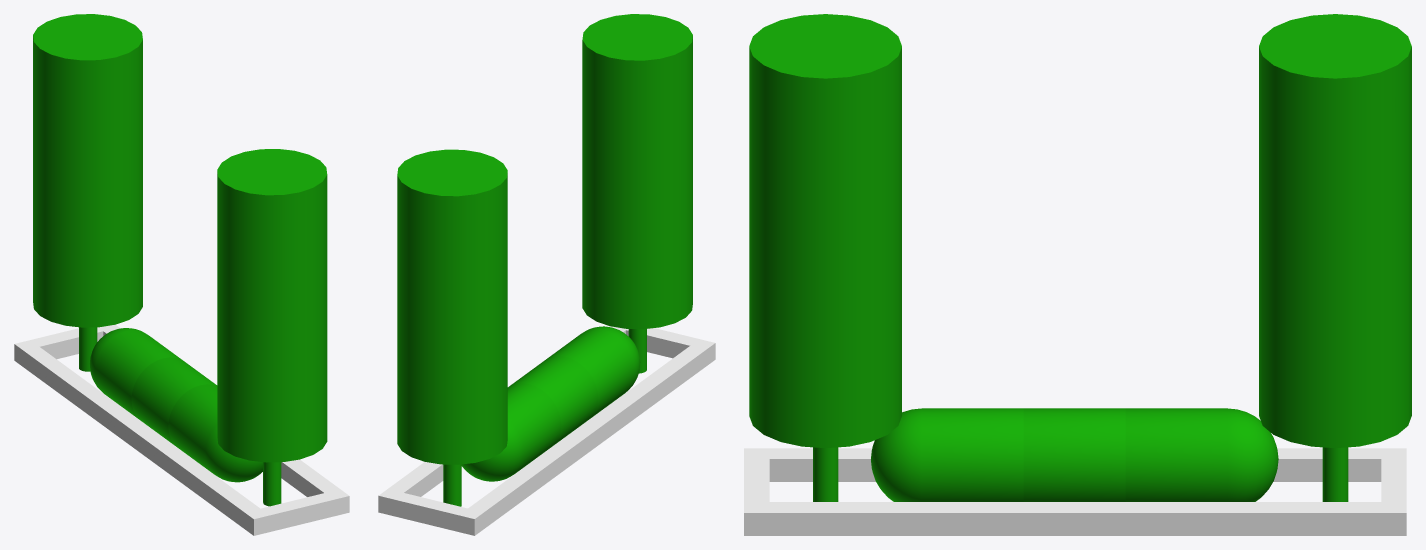
Rendered from StreetFoilage2_PH.fbx.
3 renders of one model, left to right at view 1: azimuth 30°, elevation 25°; view 2: azimuth 150°, elevation 25°; view 3: azimuth 270°, elevation 25°, orthographic. The views are drawn at different scales.
Visible parts, largest first — view 1: Tree__9_, Tree__7_, BuildingBorer__19_, Bush__20_, Bush__18_, Bush__19_, BuildingBorer__20_, BuildingBorer__13_, BuildingBorer__21_, Tree__8_, Tree__6_; view 2: Tree__7_, Tree__9_, BuildingBorer__19_, Bush__18_, Bush__20_, Bush__19_, BuildingBorer__13_, BuildingBorer__20_, BuildingBorer__21_, Tree__6_, Tree__8_; view 3: Tree__7_, Tree__9_, BuildingBorer__21_, Bush__18_, Bush__20_, Bush__19_, BuildingBorer__19_, BuildingBorer__20_, BuildingBorer__13_, Tree__6_, Tree__8_.
Part boxes in pixels (bbox=[...]): Tree__9_: bbox=[217, 149, 327, 462]; Tree__7_: bbox=[33, 14, 142, 327]; BuildingBorer__19_: bbox=[23, 347, 259, 528]; Bush__20_: bbox=[168, 384, 262, 482]; Bush__18_: bbox=[89, 328, 184, 420]; Bush__19_: bbox=[131, 357, 217, 446]; BuildingBorer__20_: bbox=[244, 489, 349, 535]; BuildingBorer__13_: bbox=[14, 324, 118, 366]; BuildingBorer__21_: bbox=[103, 327, 339, 496]; Tree__8_: bbox=[263, 462, 281, 506]; Tree__6_: bbox=[79, 327, 97, 371]; Tree__7_: bbox=[397, 149, 507, 464]; Tree__9_: bbox=[582, 14, 692, 329]; BuildingBorer__19_: bbox=[468, 346, 706, 528]; Bush__18_: bbox=[461, 383, 561, 481]; Bush__20_: bbox=[546, 326, 640, 418]; Bush__19_: bbox=[509, 356, 598, 445]; BuildingBorer__13_: bbox=[378, 489, 483, 535]; BuildingBorer__20_: bbox=[612, 326, 715, 365]; BuildingBorer__21_: bbox=[388, 326, 625, 496]; Tree__6_: bbox=[443, 464, 461, 506]; Tree__8_: bbox=[628, 329, 646, 373]; Tree__7_: bbox=[1259, 14, 1411, 448]; Tree__9_: bbox=[749, 14, 901, 448]; BuildingBorer__21_: bbox=[769, 502, 1381, 535]; Bush__18_: bbox=[1125, 408, 1278, 501]; Bush__20_: bbox=[871, 408, 1023, 501]; Bush__19_: bbox=[1023, 408, 1125, 501]; BuildingBorer__19_: bbox=[769, 448, 1381, 481]; BuildingBorer__20_: bbox=[744, 448, 769, 535]; BuildingBorer__13_: bbox=[1381, 448, 1406, 535]; Tree__6_: bbox=[1322, 447, 1348, 501]; Tree__8_: bbox=[813, 447, 838, 501].
Size of the model in its own units: 150 by 497 by 655.
